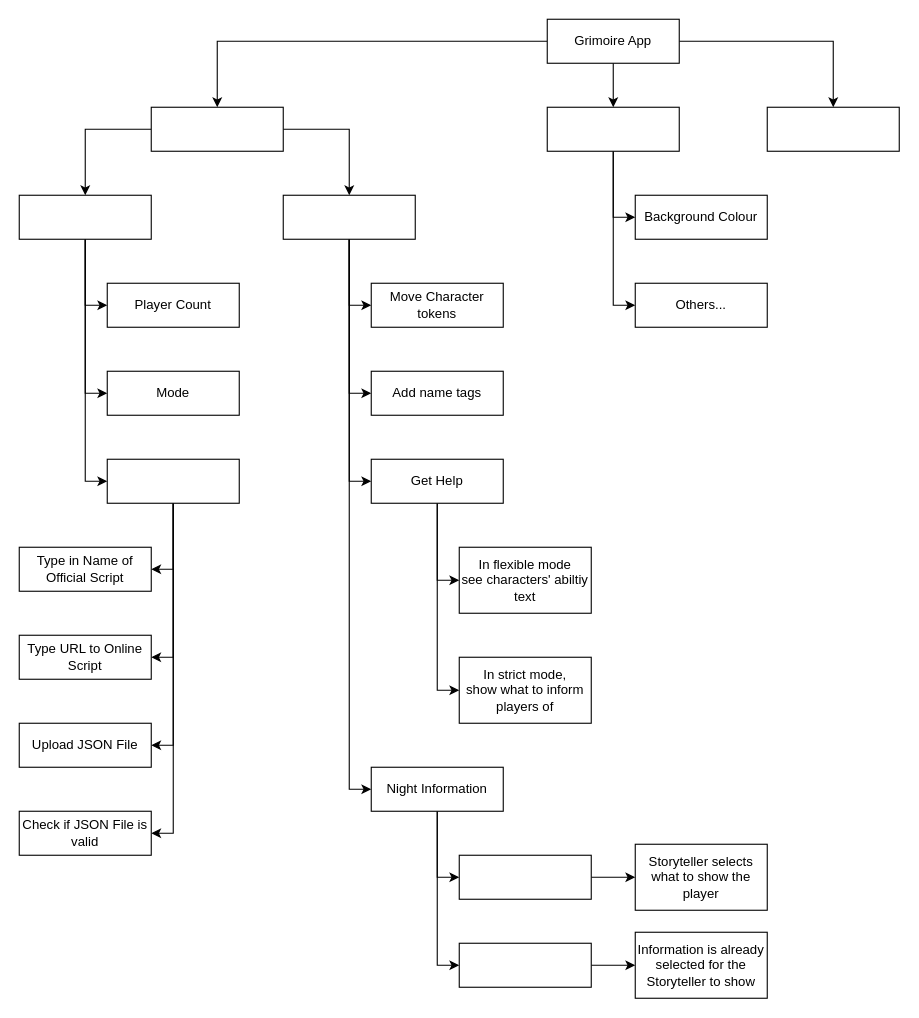
Some shapes in this 919 by 1018 pixel diagram are drawn without their labels. Each missing label, with the box of its shape:
Automatic Night Information: (458, 942, 591, 987)
Credits: (766, 106, 899, 151)
Custom Night Information: (458, 854, 591, 899)
Grimoire: (150, 106, 283, 151)
Grimoire Creation: (18, 194, 151, 239)
Grimoire Usage: (282, 194, 415, 239)
Script Selection: (106, 458, 239, 503)
Settings: (546, 106, 679, 151)
